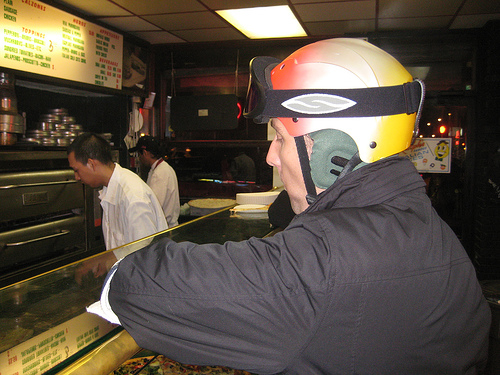helmet: (247, 32, 434, 172)
